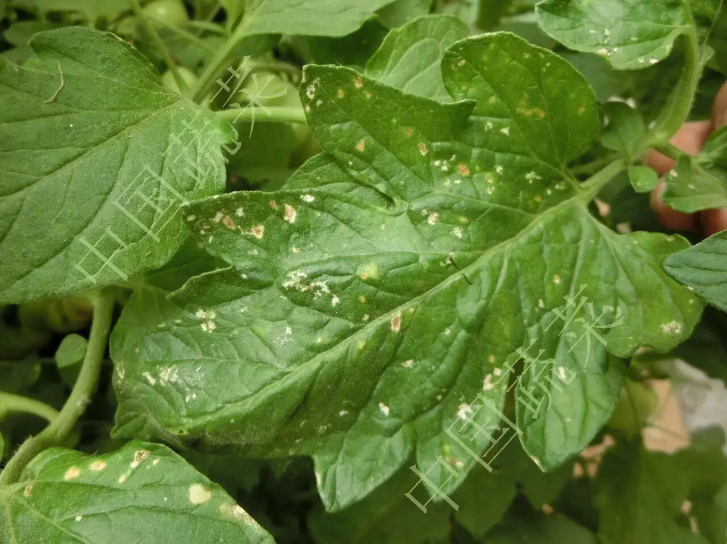thrips: (399, 125, 504, 198), (189, 206, 265, 242), (280, 268, 341, 309), (117, 448, 162, 484), (218, 500, 263, 532), (139, 361, 184, 387), (61, 457, 107, 482), (299, 69, 322, 113), (516, 90, 546, 119), (191, 303, 219, 334), (269, 198, 298, 226), (187, 480, 212, 506), (659, 316, 685, 337), (352, 73, 373, 99), (271, 325, 295, 347), (482, 366, 502, 390), (419, 206, 440, 226), (454, 402, 475, 420), (523, 169, 543, 186), (388, 310, 402, 334), (375, 400, 391, 417), (448, 223, 465, 238), (299, 190, 316, 204), (398, 357, 417, 369), (353, 136, 366, 152), (359, 311, 375, 323), (336, 407, 350, 419), (551, 273, 562, 286)
